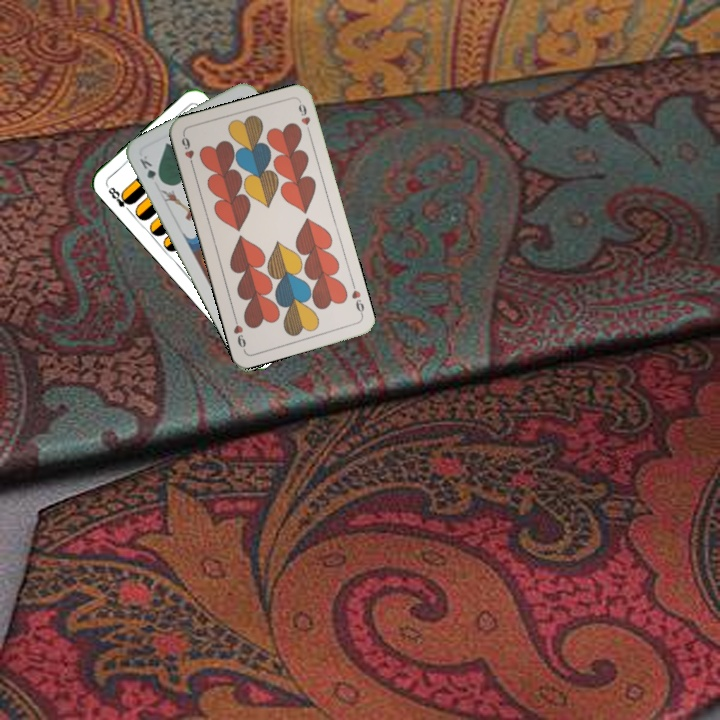E8: (104, 183, 135, 215)
GK: (135, 151, 165, 187)
H9: (177, 131, 197, 171), (347, 286, 367, 319)
